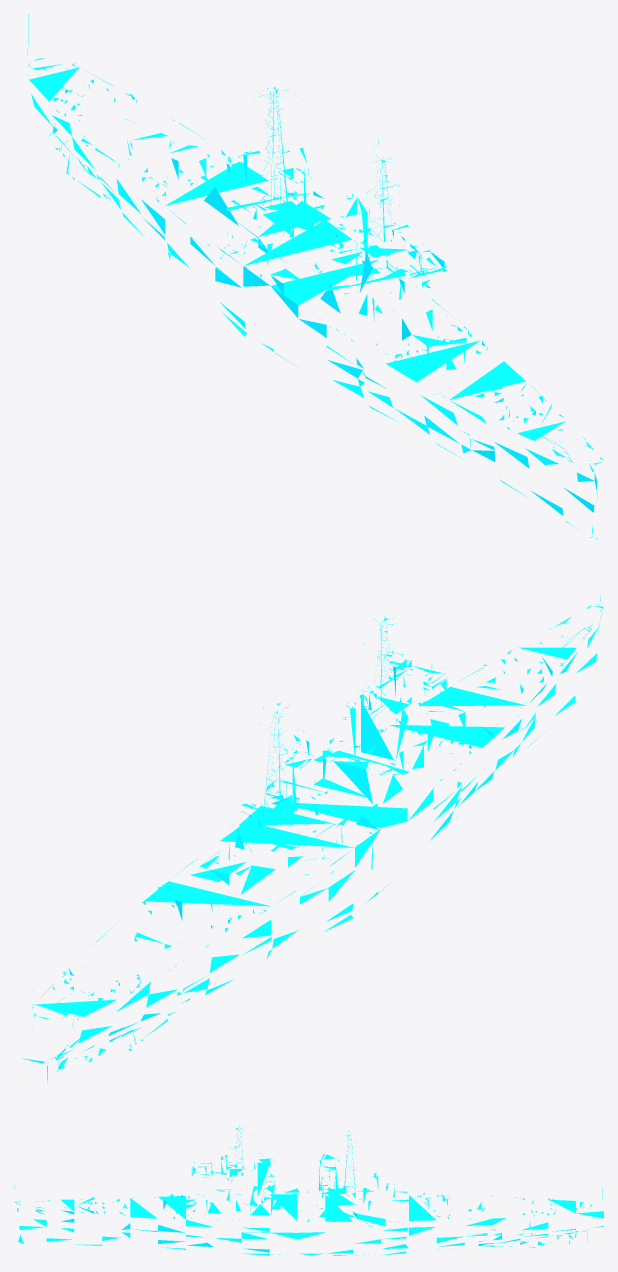
Rendered from Cyclops.glb.
3 views of the same model, one above another, from view 1: azimuth 30°, elevation 25°; view 2: azimuth 150°, elevation 25°; view 3: azimuth 270°, elevation 25° (orthographic). The views are drawn at different scales.
Size of the model in its own units: 1.74 by 3.55 by 15.06.
